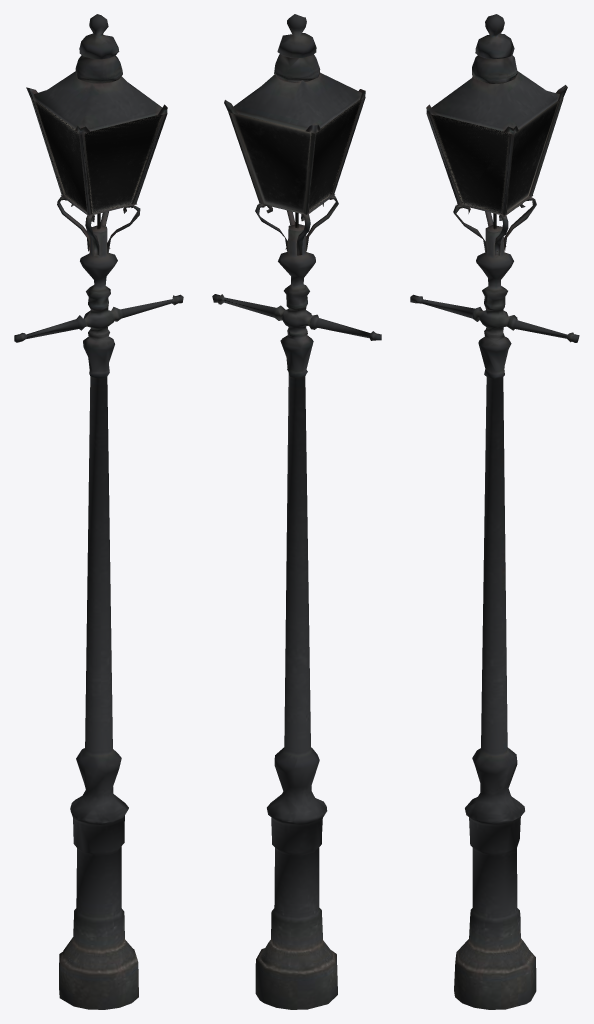
File: street_lamp_01.glb
The picture shows the model from 3 angles, left to right: view 1: azimuth 30°, elevation 25°; view 2: azimuth 150°, elevation 25°; view 3: azimuth 330°, elevation 25°; orthographic projection.
Visible parts, largest first — view 1: street_lamp_01; view 2: street_lamp_01; view 3: street_lamp_01.
Boxes of the visible parts, box(x1,y1,x2,y2) form: street_lamp_01: box(14, 14, 183, 1009); street_lamp_01: box(212, 14, 381, 1009); street_lamp_01: box(410, 14, 579, 1009).
Bounding box in the file's own units: 0.6955 × 3.87 × 0.3726.
Materials: 2 (2 with a texture image).
